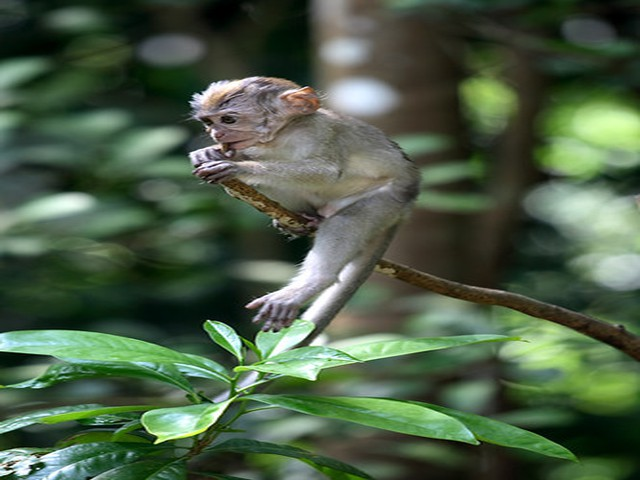Monkey: (186, 65, 424, 357)
